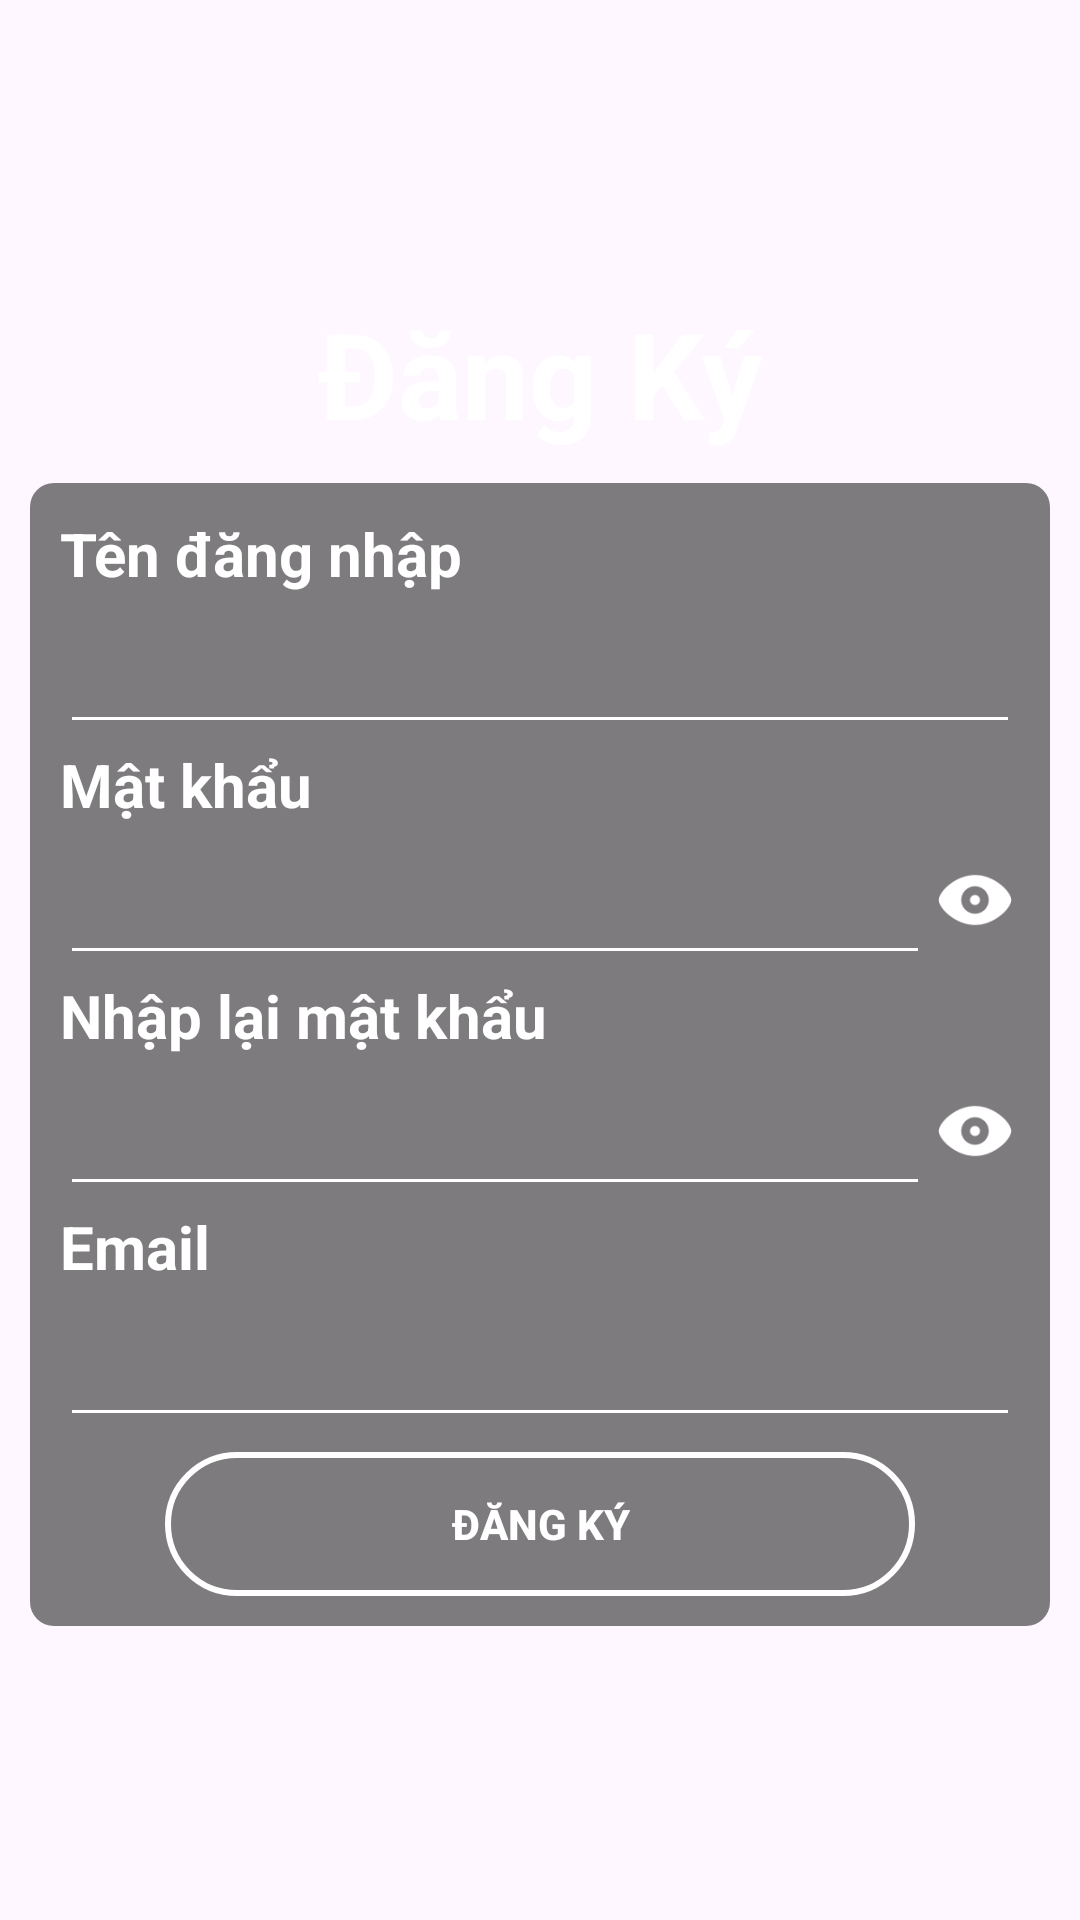

Where to tap for icons on this 1080w x 1920h app screen, as point (x, y):
show password: point (975, 900), point (975, 1131)
